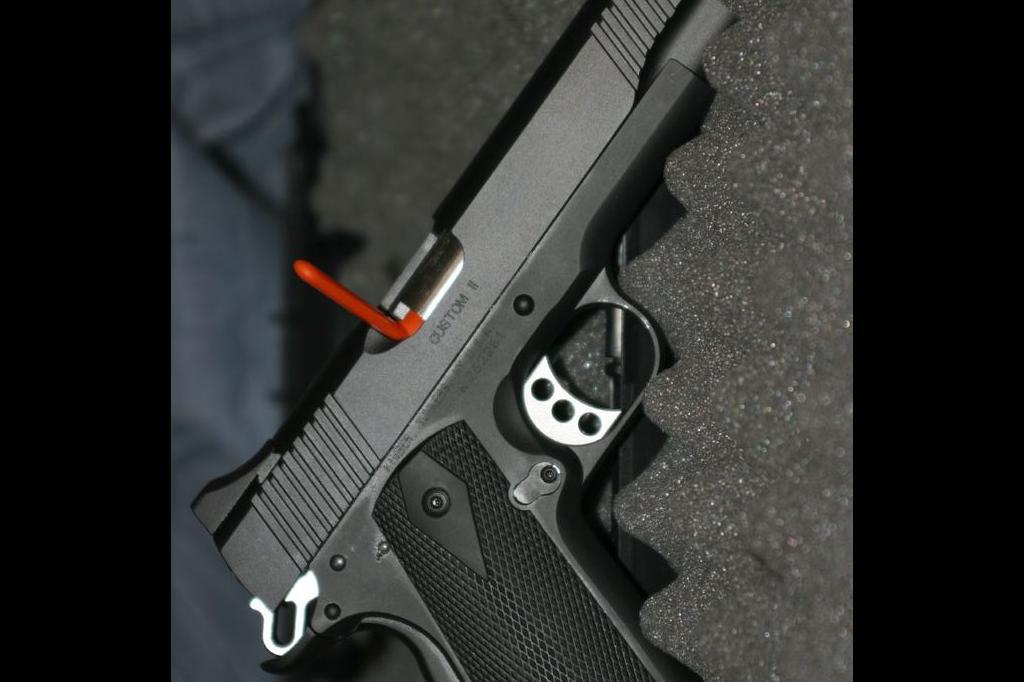gun: (188, 0, 737, 682)
